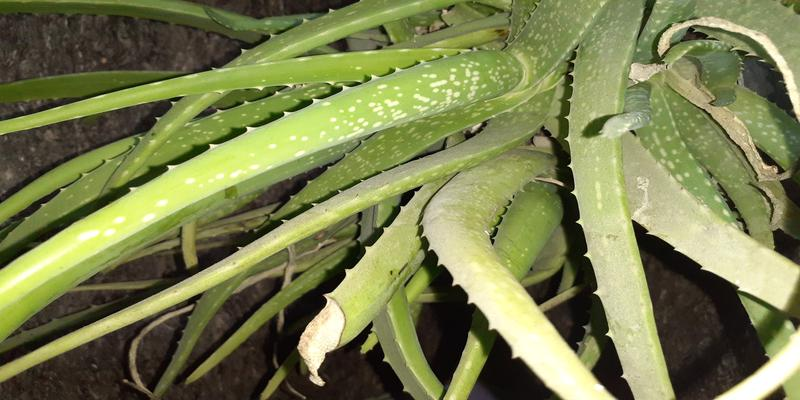Aloevera: (139, 33, 773, 345)
